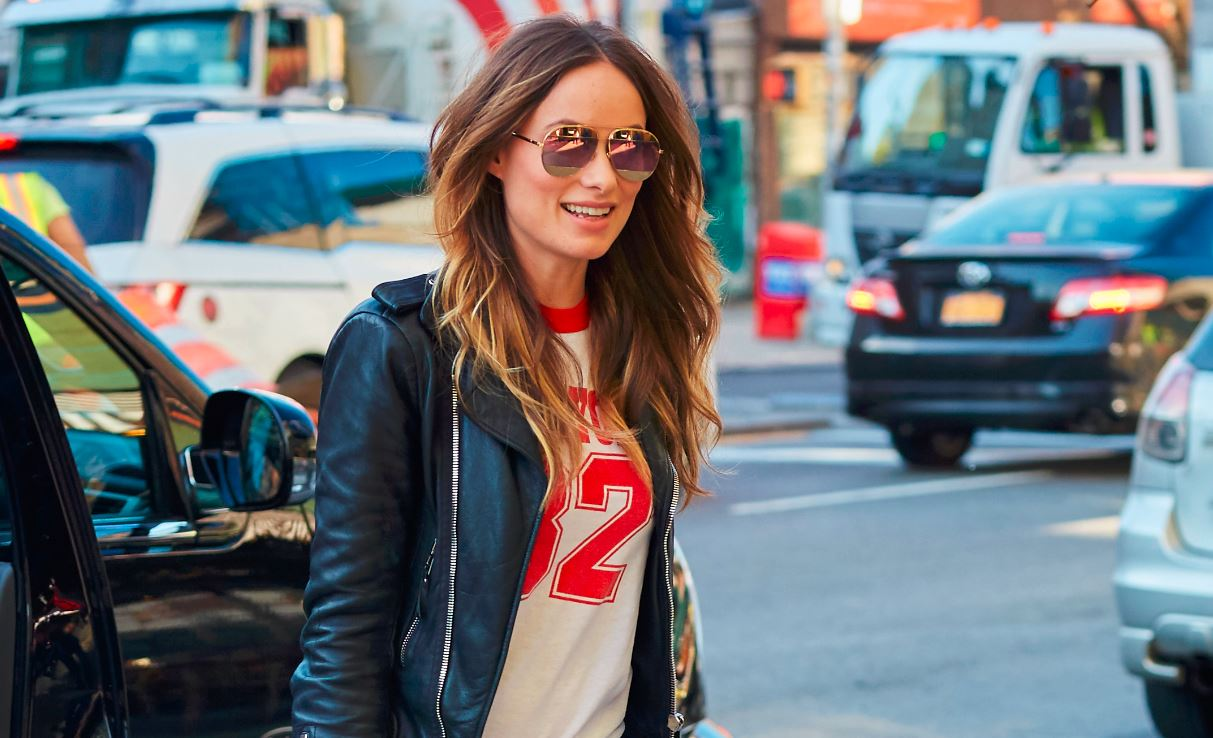sunglasses: (535, 124, 667, 184)
